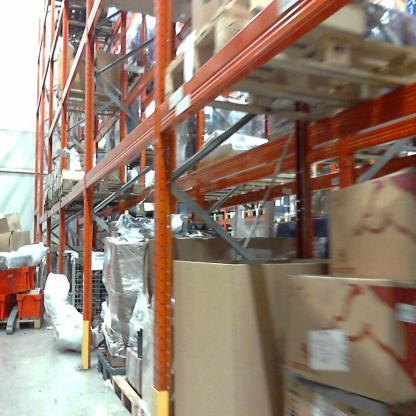pallets: (161, 0, 271, 108), (281, 365, 415, 415), (94, 343, 152, 415)
